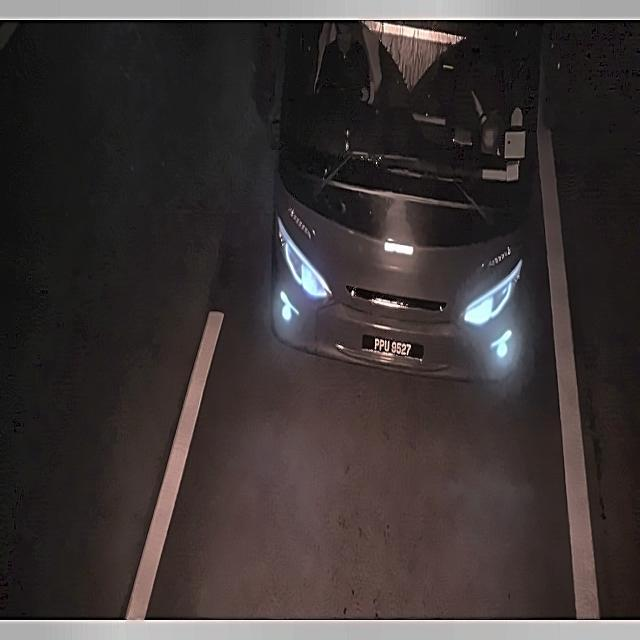car: (358, 329, 428, 366)
